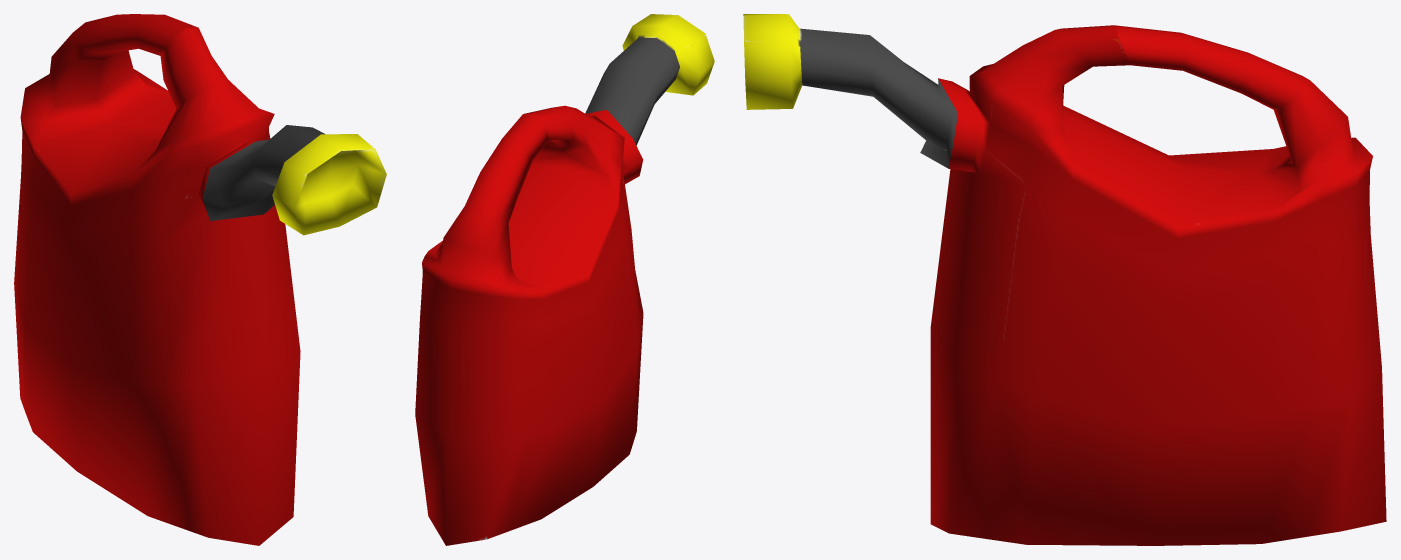
The model's file is GasCan.fbx.
The picture shows the model from 3 angles, left to right: view 1: azimuth 30°, elevation 25°; view 2: azimuth 150°, elevation 25°; view 3: azimuth 270°, elevation 25°; orthographic projection. The views are drawn at different scales.
Parts seen in each view (by area): view 1: GasCan; view 2: GasCan; view 3: GasCan.
Part boxes in pixels (<box>): GasCan: <box>14,14,386,545</box>; GasCan: <box>415,14,714,545</box>; GasCan: <box>743,14,1386,545</box>.
Bounding box in the file's own units: 3.07 × 7.55 × 8.65.
1 material, 1 textured.
